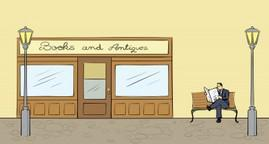chair: (186, 87, 240, 126)
person: (206, 79, 230, 124)
